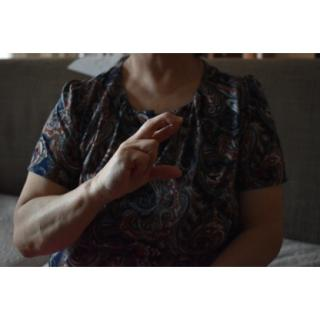DHELL: (100, 102, 190, 205)
